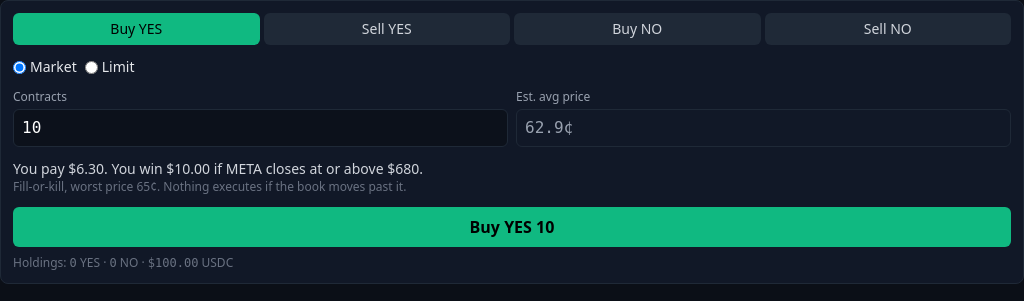
order placement › limit orders use the typed price and refuse market orders the book cannot fill
Replace the text in the number field labelled "Contracts" with "500" at (260, 128), box top-left (13, 109), bottom-right (508, 147)
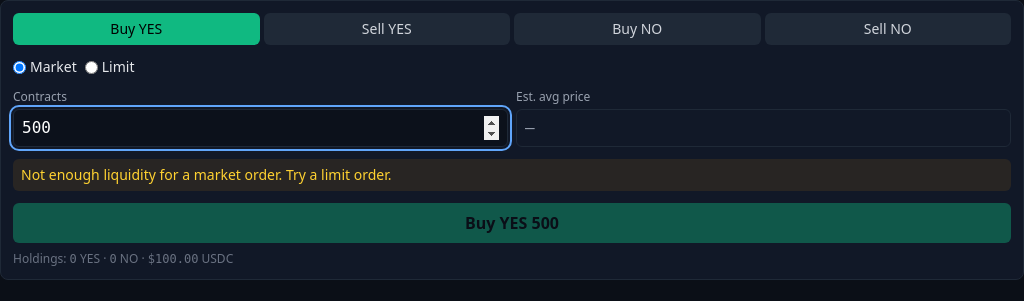
expect the message shows "Not enough liquidity": met, box top-left (21, 165), bottom-right (392, 184)
Click the radio button labelled "Limit" at (91, 67), box top-left (85, 60), bottom-right (98, 74)
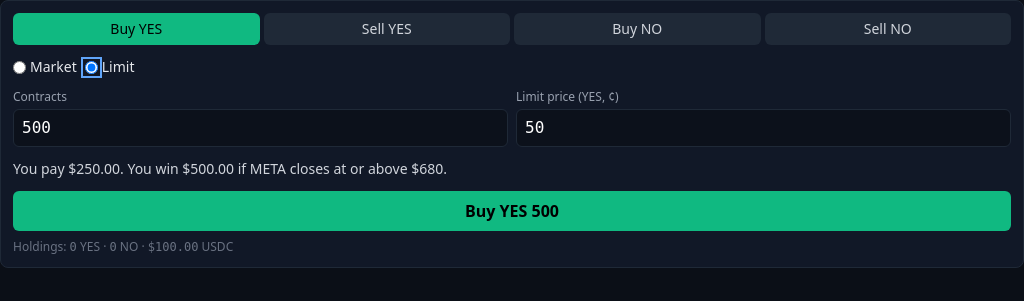
expect the message "Not enough liquidity for a market order. Try a limit order." is gone: met
